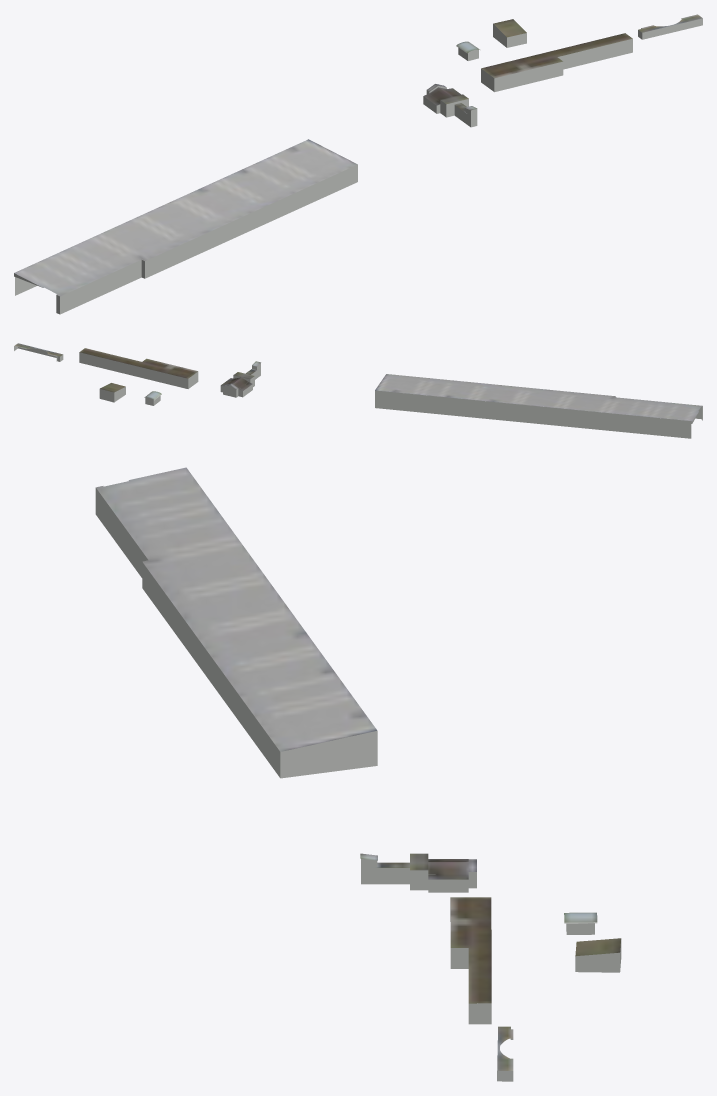
File: LSGS_0_-1.glb
The picture shows the model from 3 angles, top to bottom: view 1: azimuth 30°, elevation 25°; view 2: azimuth 150°, elevation 25°; view 3: azimuth 270°, elevation 25°; orthographic projection. The views are drawn at different scales.
Visible parts, largest first — view 1: building_2b2e13a697f9ed34, building_ddb764c54e2edca5, building_aaf471d5b490c823, building_17271b5300cb359d, building_53612013abf48e8d, building_5664717cb4bb1fe2; view 2: building_ddb764c54e2edca5, building_2b2e13a697f9ed34, building_aaf471d5b490c823, building_17271b5300cb359d, building_53612013abf48e8d, building_5664717cb4bb1fe2; view 3: building_2b2e13a697f9ed34, building_ddb764c54e2edca5, building_17271b5300cb359d, building_aaf471d5b490c823, building_53612013abf48e8d, building_5664717cb4bb1fe2.
Part boxes in pixels (x1,y1,x2,y2): building_2b2e13a697f9ed34: (14,139,357,296); building_ddb764c54e2edca5: (14,164,357,314); building_aaf471d5b490c823: (458,18,702,92); building_17271b5300cb359d: (456,14,702,78); building_53612013abf48e8d: (423,86,477,127); building_5664717cb4bb1fe2: (424,84,477,113); building_ddb764c54e2edca5: (375,390,702,438); building_2b2e13a697f9ed34: (375,374,702,421); building_aaf471d5b490c823: (14,346,198,405); building_17271b5300cb359d: (14,343,197,400); building_53612013abf48e8d: (220,363,260,397); building_5664717cb4bb1fe2: (221,361,260,390); building_2b2e13a697f9ed34: (96,467,376,751); building_ddb764c54e2edca5: (95,488,377,778); building_17271b5300cb359d: (450,897,621,1070); building_aaf471d5b490c823: (450,901,621,1081); building_53612013abf48e8d: (361,859,476,892); building_5664717cb4bb1fe2: (360,853,476,879).
Size of the model in its own units: 613 by 17.3 by 234.
Materials: 2 (1 with a texture image).
